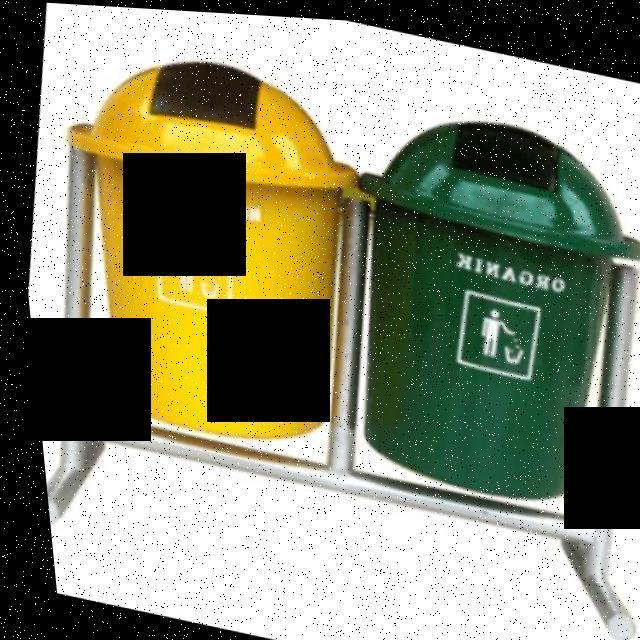bin: (18, 7, 382, 480), (299, 68, 640, 559)
